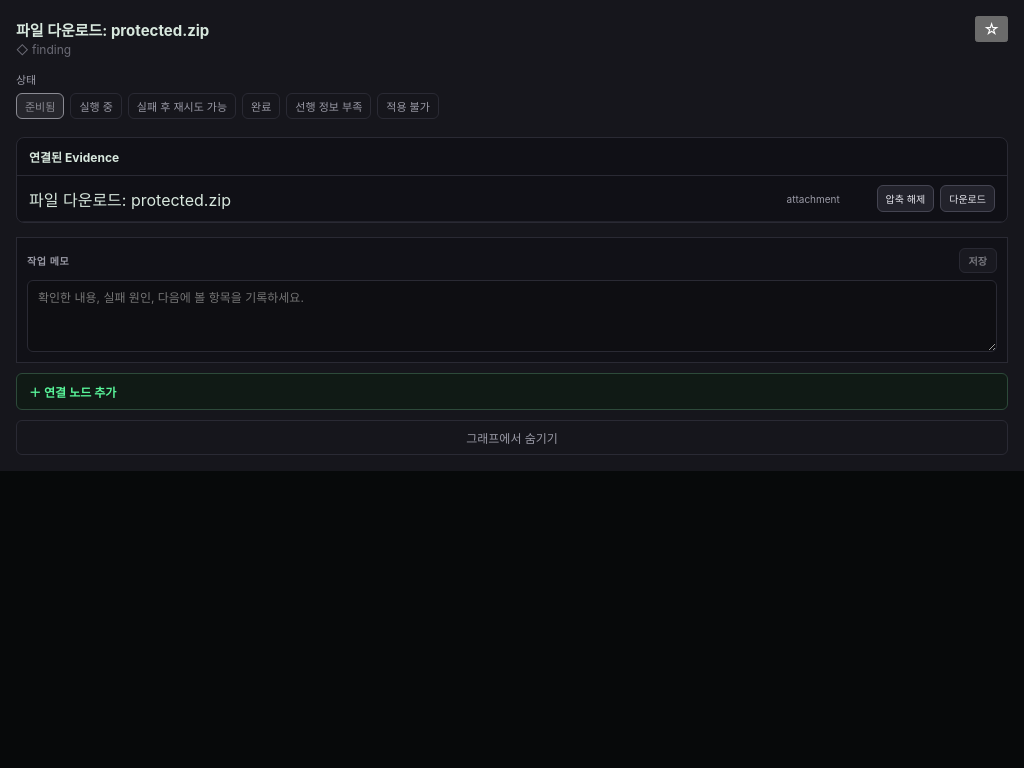
Test: lets a cracked password unlock a password-protected archive member
Step 1. Click the button "압축 해제" → (905, 198), box [877,185,934,212]
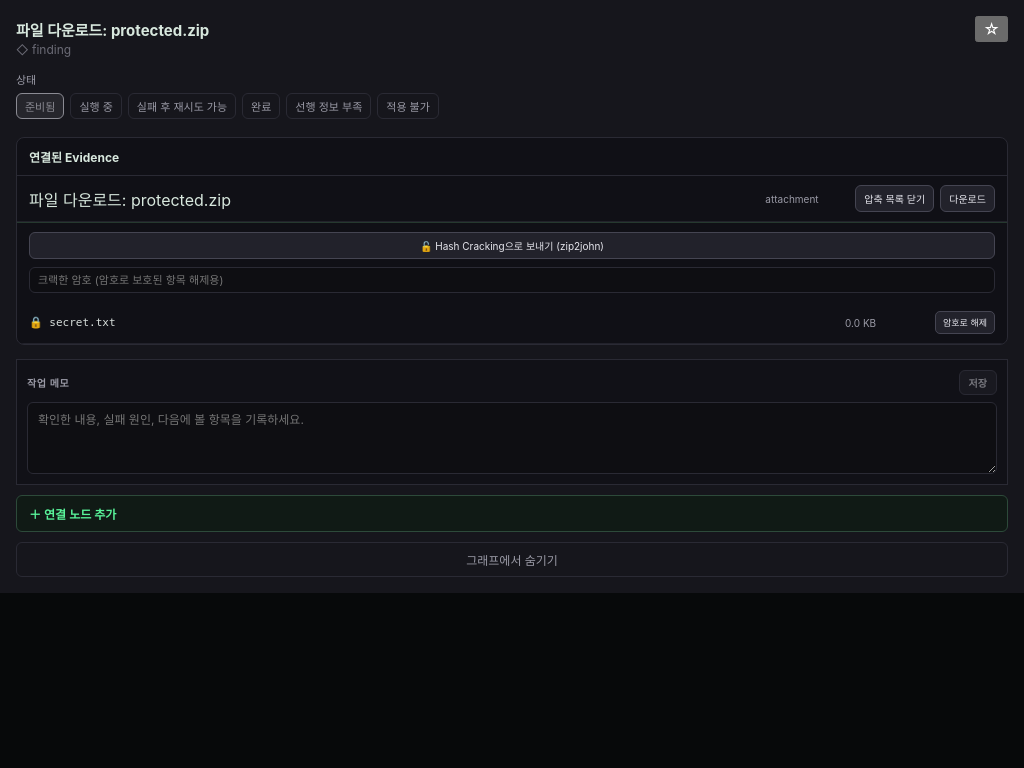
Result: the button "암호로 해제" is enabled at [935,311,995,334]
Step 2. Type "hunter2" into the password field with placeholder "크랙한 암호 (암호로 보호된 항목 해제용)" → (512, 280), box [29,267,995,293]
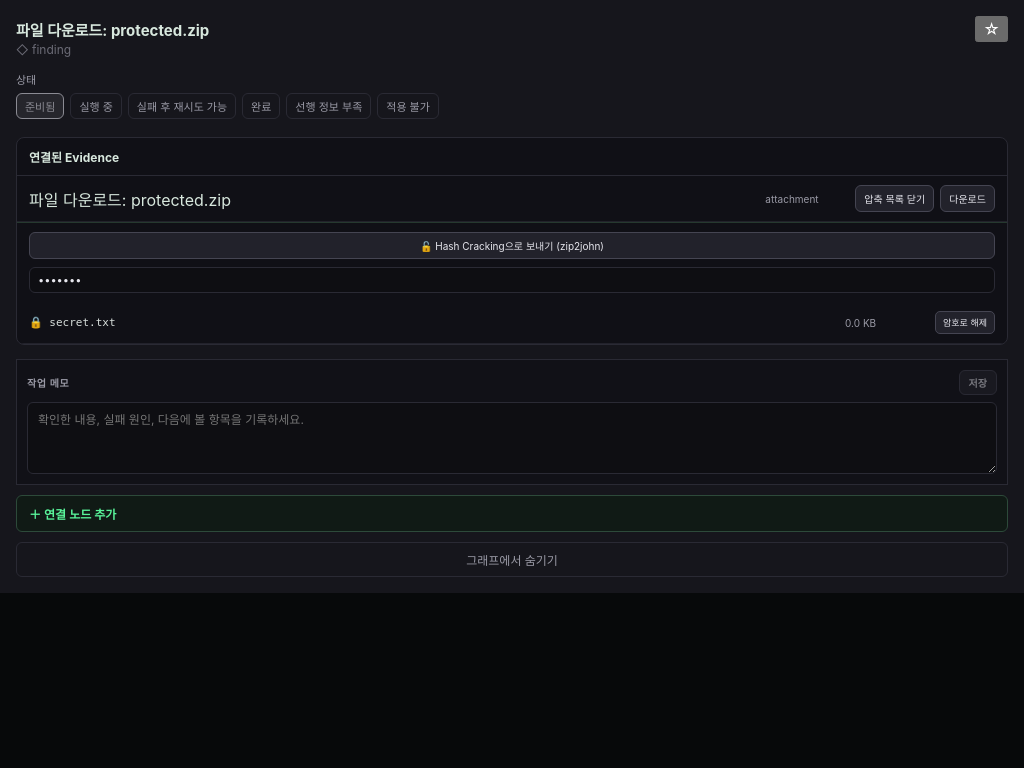
Step 3. Click the button "암호로 해제" → (965, 322), box [935,311,995,334]
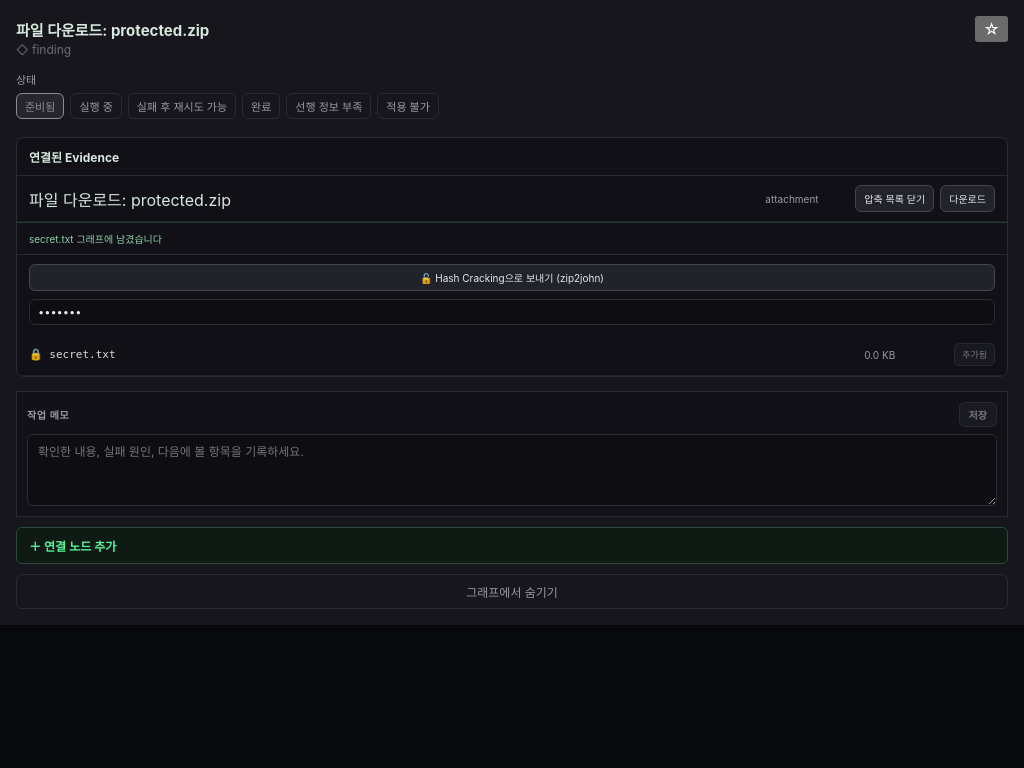
Result: the button "추가됨" is shown at [954,343,995,366]
